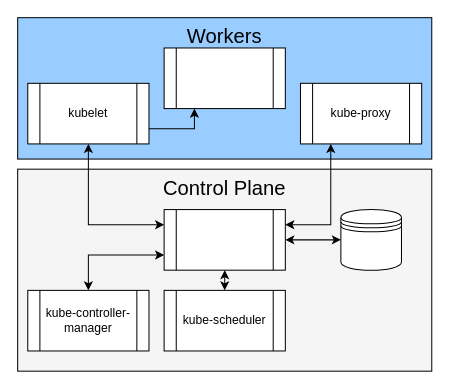
Some shapes in this 449 by 389 pixel diagram are drawn without their labels. Each missing label, with the centre of its shape:
CRI (Docker, Containerd, etc.): (x=224, y=78)
etcd: (x=370, y=239)
kube-apiserver: (x=224, y=239)
